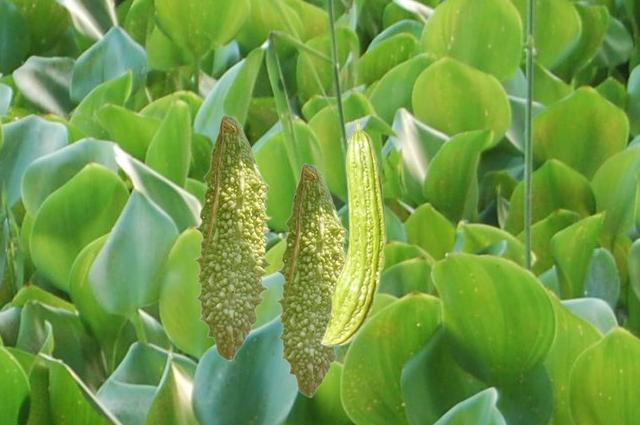ampalaya: (193, 112, 272, 362), (275, 161, 347, 398), (318, 117, 387, 349)
